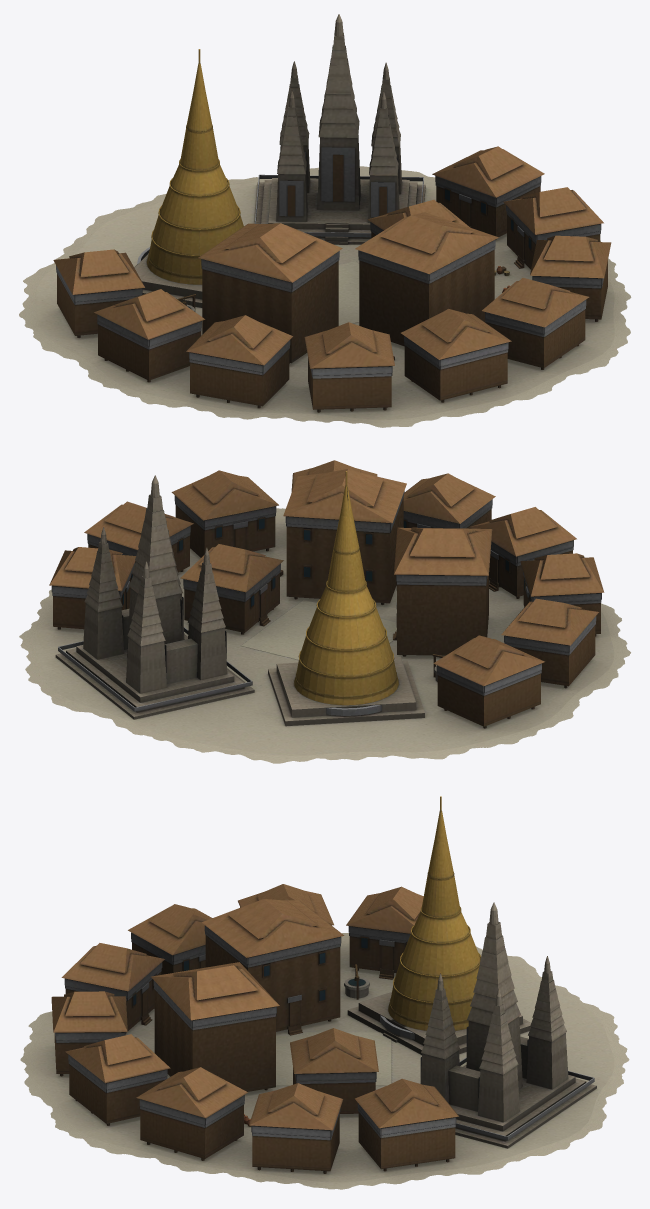
File: kingdoms-town-medium-b-monsoon.glb
The picture shows the model from 3 angles, top to bottom: view 1: azimuth 30°, elevation 25°; view 2: azimuth 150°, elevation 25°; view 3: azimuth 270°, elevation 25°; orthographic projection.
Visible parts, largest first — view 1: LOD0; view 2: LOD0; view 3: LOD0.
Part boxes in pixels (x1,y1,x2,y2): LOD0: [19, 14, 631, 427]; LOD0: [19, 460, 630, 763]; LOD0: [20, 796, 629, 1189].
Size of what is drawn, in the model's own units: 5.97 by 2.4 by 5.92.
3 materials, 3 textured.
